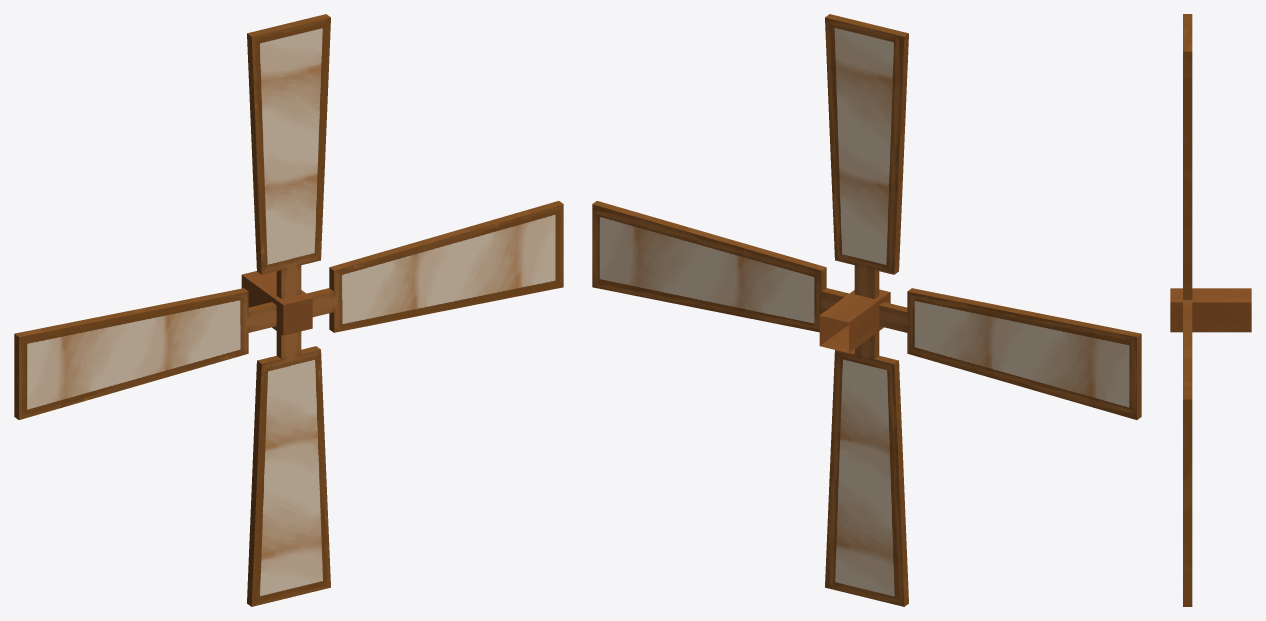
File: wind mill_2.FBX
3 views of the same model, side by side, from view 1: azimuth 30°, elevation 25°; view 2: azimuth 150°, elevation 25°; view 3: azimuth 270°, elevation 25° (orthographic). The views are drawn at different scales.
Visible parts, largest first — view 1: Plane001; view 2: Plane001; view 3: Plane001.
Boxes of the visible parts, x1=… form: Plane001: x1=14, y1=14, x2=563, y2=606; Plane001: x1=592, y1=14, x2=1141, y2=606; Plane001: x1=1170, y1=14, x2=1251, y2=606.
Size of the model in its own units: 131 by 131 by 17.36.
2 materials, 2 textured.
